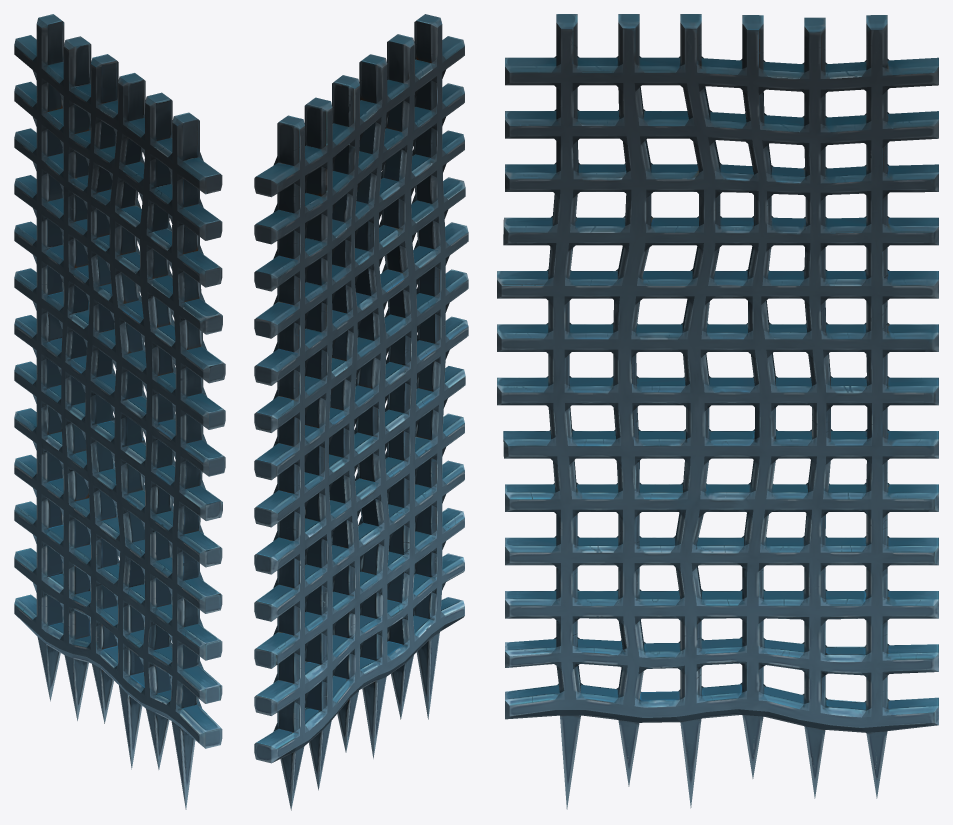
File: SM_GateBars.fbx
3 views of the same model, side by side, from view 1: azimuth 30°, elevation 25°; view 2: azimuth 150°, elevation 25°; view 3: azimuth 270°, elevation 25° (orthographic). The views are drawn at different scales.
Visible parts, largest first — view 1: SM_GateBars.003; view 2: SM_GateBars.003; view 3: SM_GateBars.003.
Part boxes in pixels (box(x1,y1,x2,y2)): SM_GateBars.003: box(14, 14, 225, 809); SM_GateBars.003: box(254, 14, 468, 810); SM_GateBars.003: box(497, 14, 938, 809).
Bounding box in the file's own units: 0.207 × 6.08 × 3.07.
